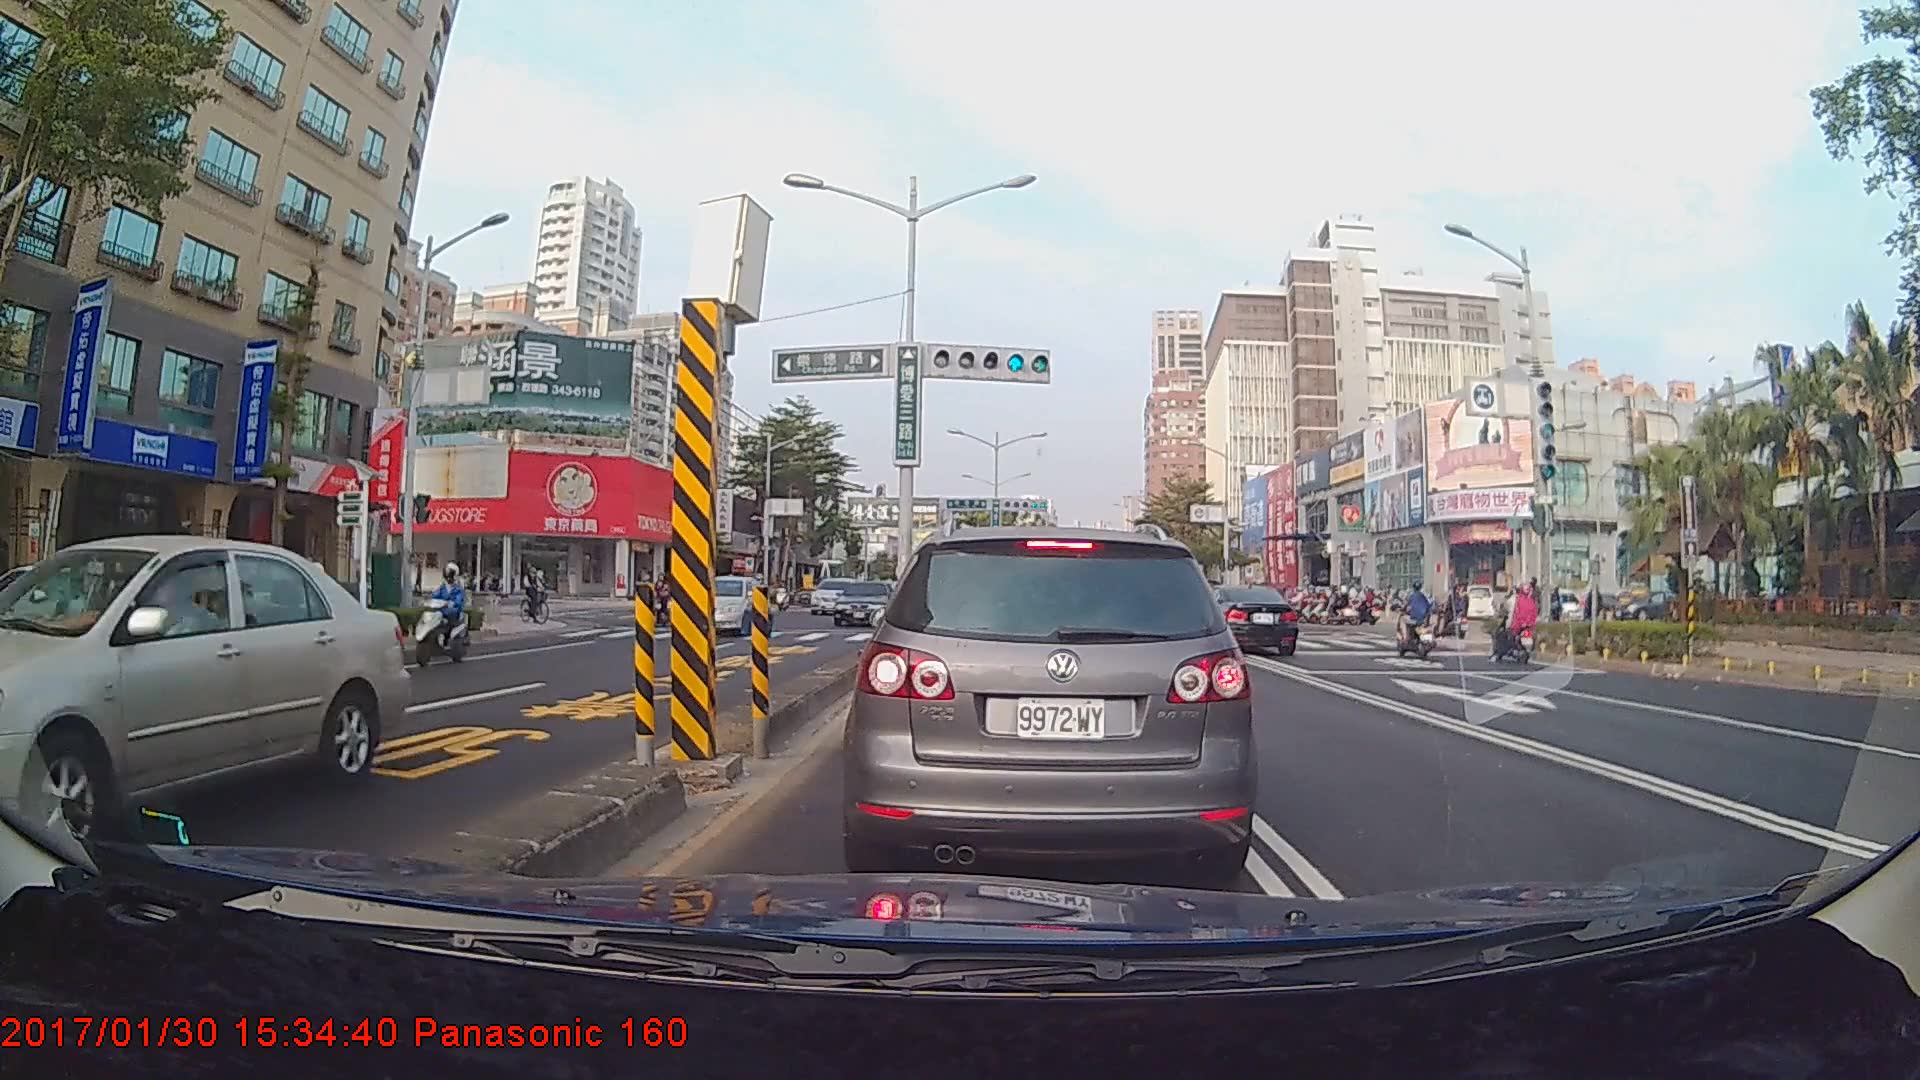rider: (411, 558, 481, 665), (1485, 582, 1548, 668), (1391, 580, 1446, 659), (518, 559, 561, 629), (1436, 582, 1473, 646)
vehicle: (856, 523, 1247, 878), (0, 533, 409, 860), (1184, 582, 1299, 656), (667, 574, 773, 636), (831, 577, 900, 627), (809, 576, 863, 615)
